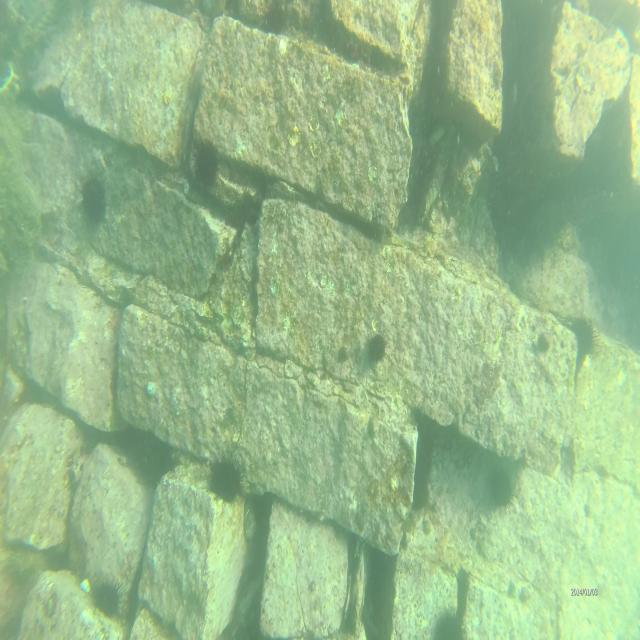echinus: (191, 130, 224, 194), (210, 455, 247, 510), (80, 172, 110, 230), (568, 312, 602, 363), (91, 576, 129, 620), (491, 469, 518, 512), (433, 607, 467, 640), (265, 0, 289, 36), (368, 327, 389, 363)
